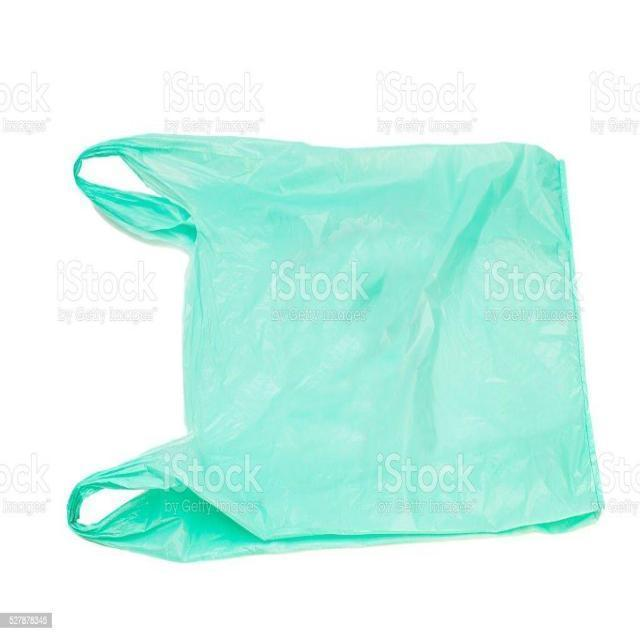Plastic_Bag: (69, 130, 605, 553)
